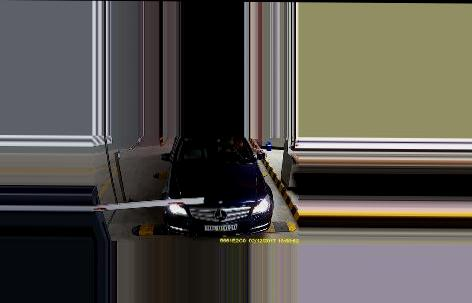License_Plate: (202, 221, 238, 232)
